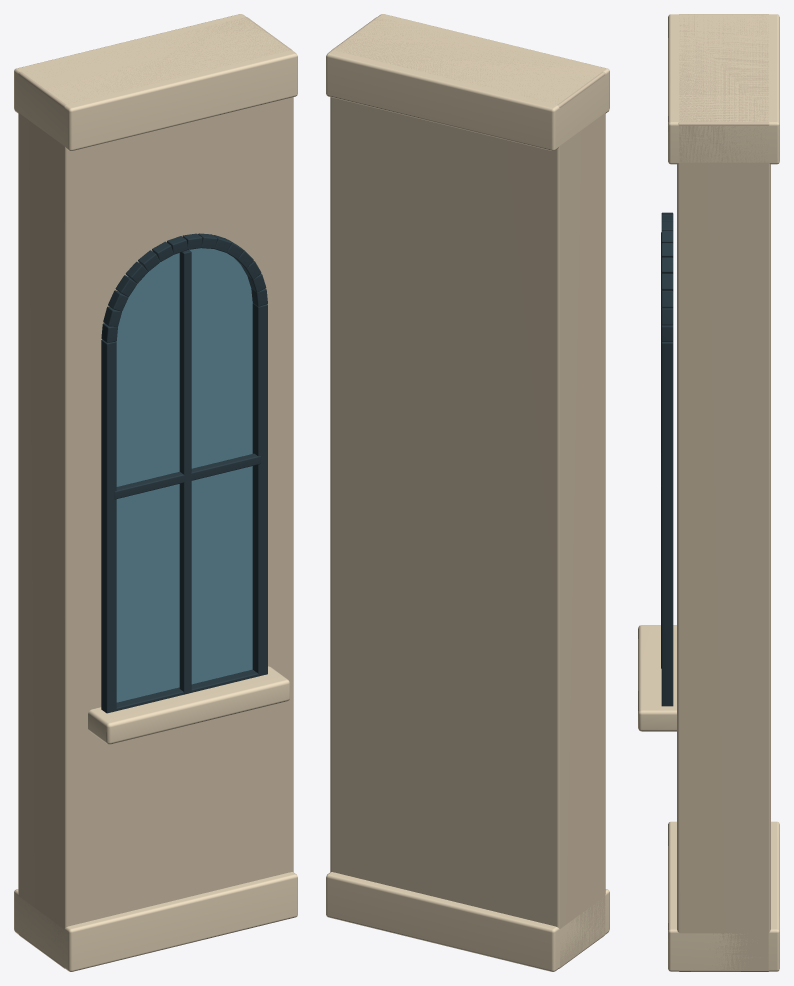
The model's file is FrontWindowBay_1m.fbx.
3 renders of one model, left to right at view 1: azimuth 30°, elevation 25°; view 2: azimuth 150°, elevation 25°; view 3: azimuth 270°, elevation 25°, orthographic.
Parts seen in each view (by area): view 1: FrontWindowBay_1m.001; view 2: FrontWindowBay_1m.001; view 3: FrontWindowBay_1m.001.
Boxes of the visible parts, x1,y1,x2,y2 form: FrontWindowBay_1m.001: [14, 14, 297, 971]; FrontWindowBay_1m.001: [326, 14, 609, 971]; FrontWindowBay_1m.001: [638, 14, 779, 971].
Size of the model in its own units: 1 by 3.6 by 0.545.
